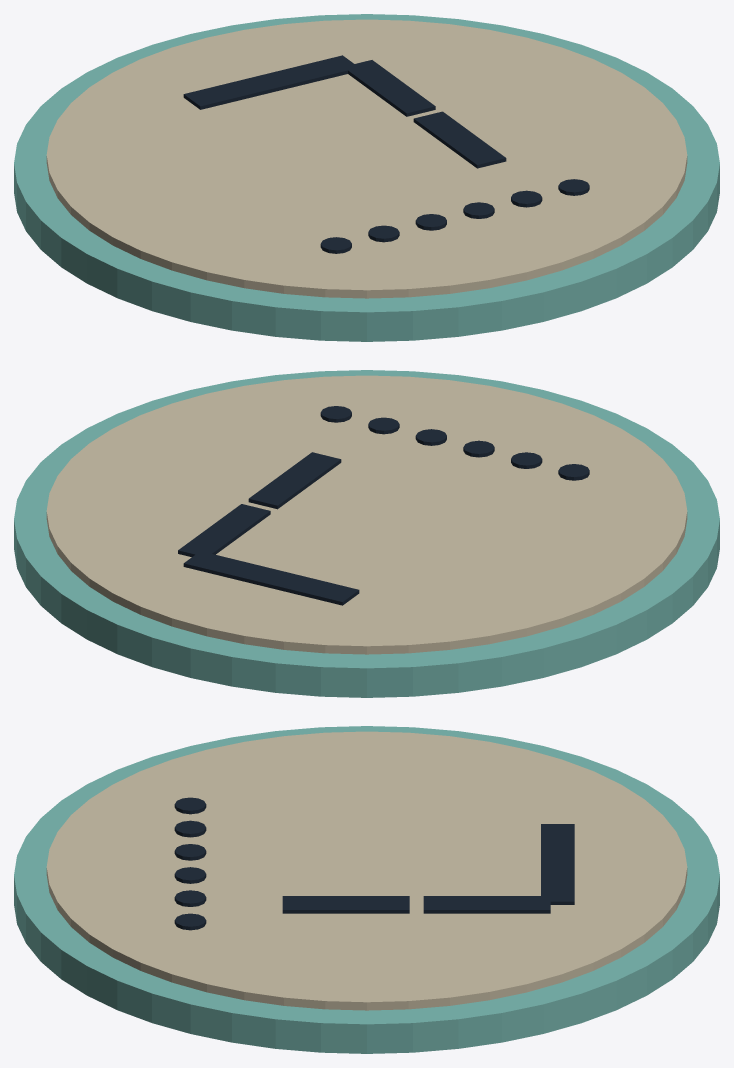
The model's file is space_number_7.glb.
3 views of the same model, one above another, from view 1: azimuth 30°, elevation 25°; view 2: azimuth 150°, elevation 25°; view 3: azimuth 270°, elevation 25° (orthographic).
Parts seen in each view (by area): view 1: FixedDetails; view 2: FixedDetails; view 3: FixedDetails.
Part boxes in pixels (bbox=[...]): FixedDetails: bbox=[14, 14, 719, 341]; FixedDetails: bbox=[14, 370, 719, 697]; FixedDetails: bbox=[14, 726, 719, 1053].
Size of the model in its own units: 0.54 by 0.036 by 0.54.
